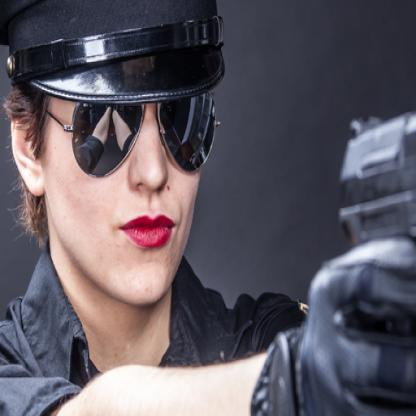gun: (338, 57, 415, 349)
